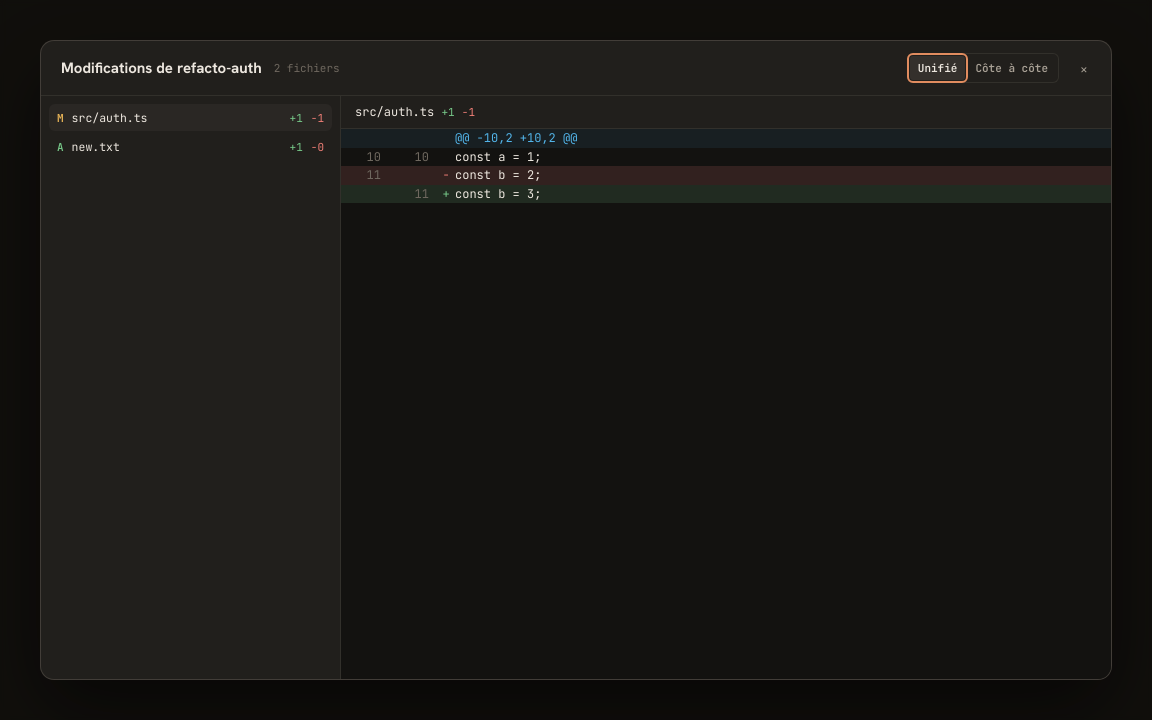
Test case: DiffModal › shows the first file, and another one when picked in the list
The width and height of the screenshot is (1152, 720).
Check: the text "const b = 3;" is shown, box [455,186,541,202]
Step 1. Click the button "A new.txt +1 −0" → [96, 146], box [49,133,332,160]
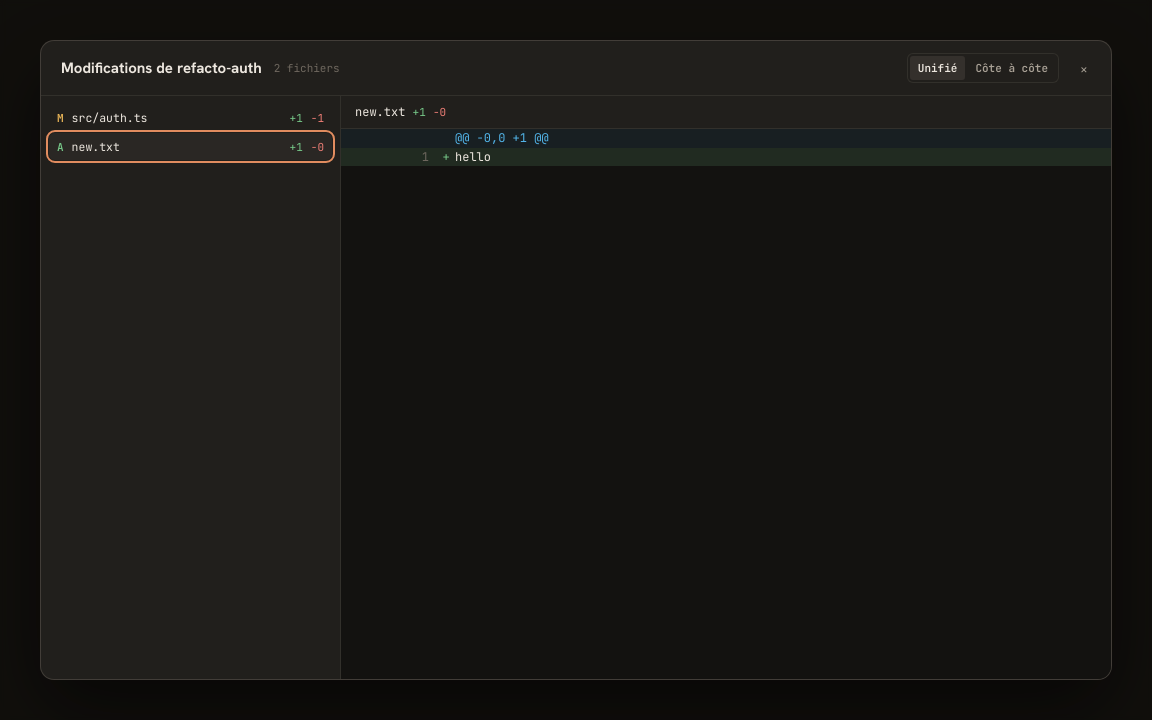
Check: the text "hello" is shown, box [455,149,491,165]
Check: the text "const b = 3;" is gone
